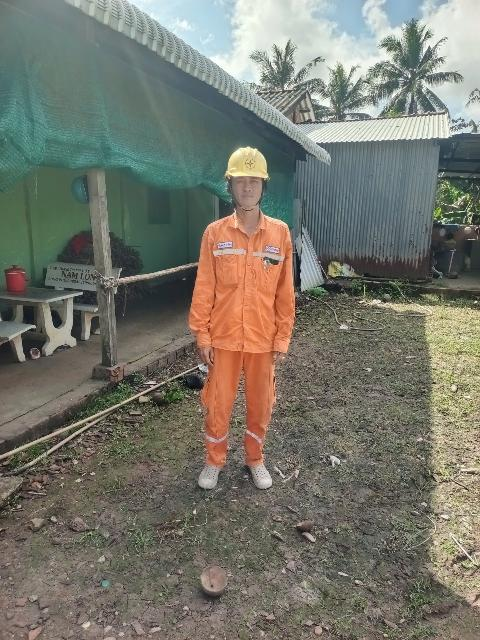helmet: (216, 138, 275, 187)
shoes: (241, 453, 278, 493), (191, 454, 228, 491)
